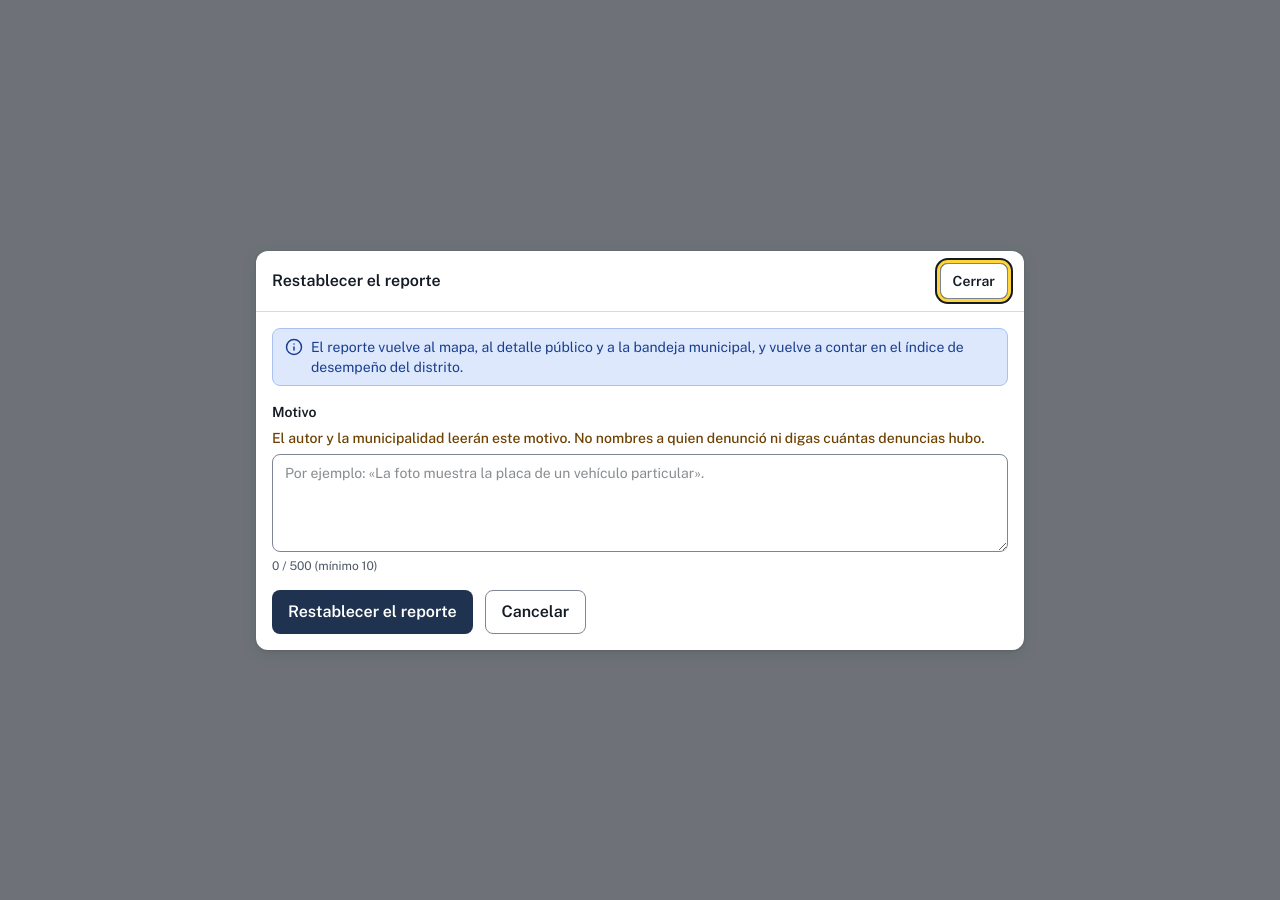
Test: DialogoModerar (NC-11b) › el 400 MOTIVO_IDENTIFICA_DENUNCIANTE va en el campo mientras el motivo no cambie
The width and height of the screenshot is (1280, 900).
Type "Denunciado por ana@ejemplo.pe sin razón" into the text box labelled "Motivo" at {"x": 640, "y": 502}, box [272,454,1008,552]
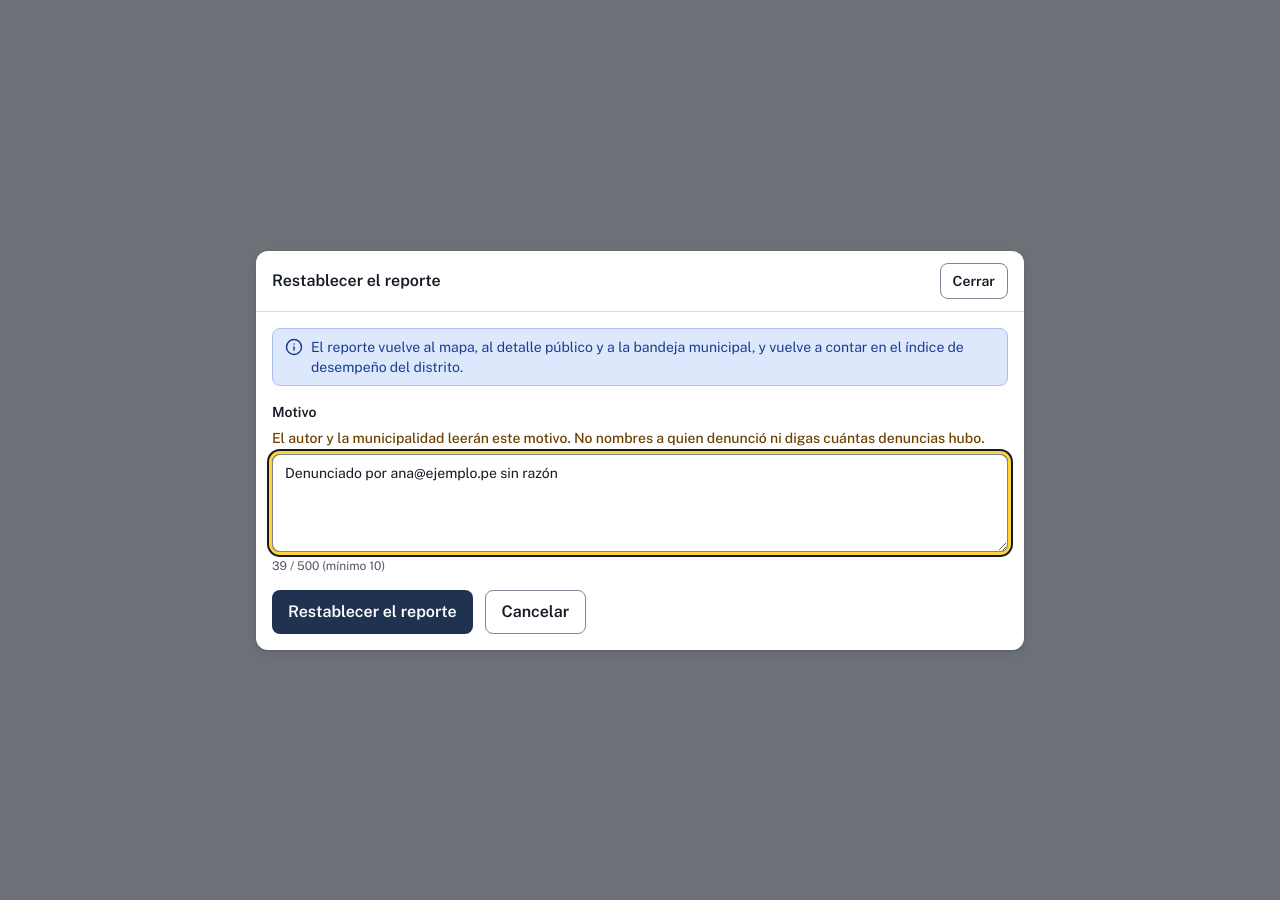
Click the button "Restablecer el reporte" at {"x": 372, "y": 612}, box [272,590,473,634]
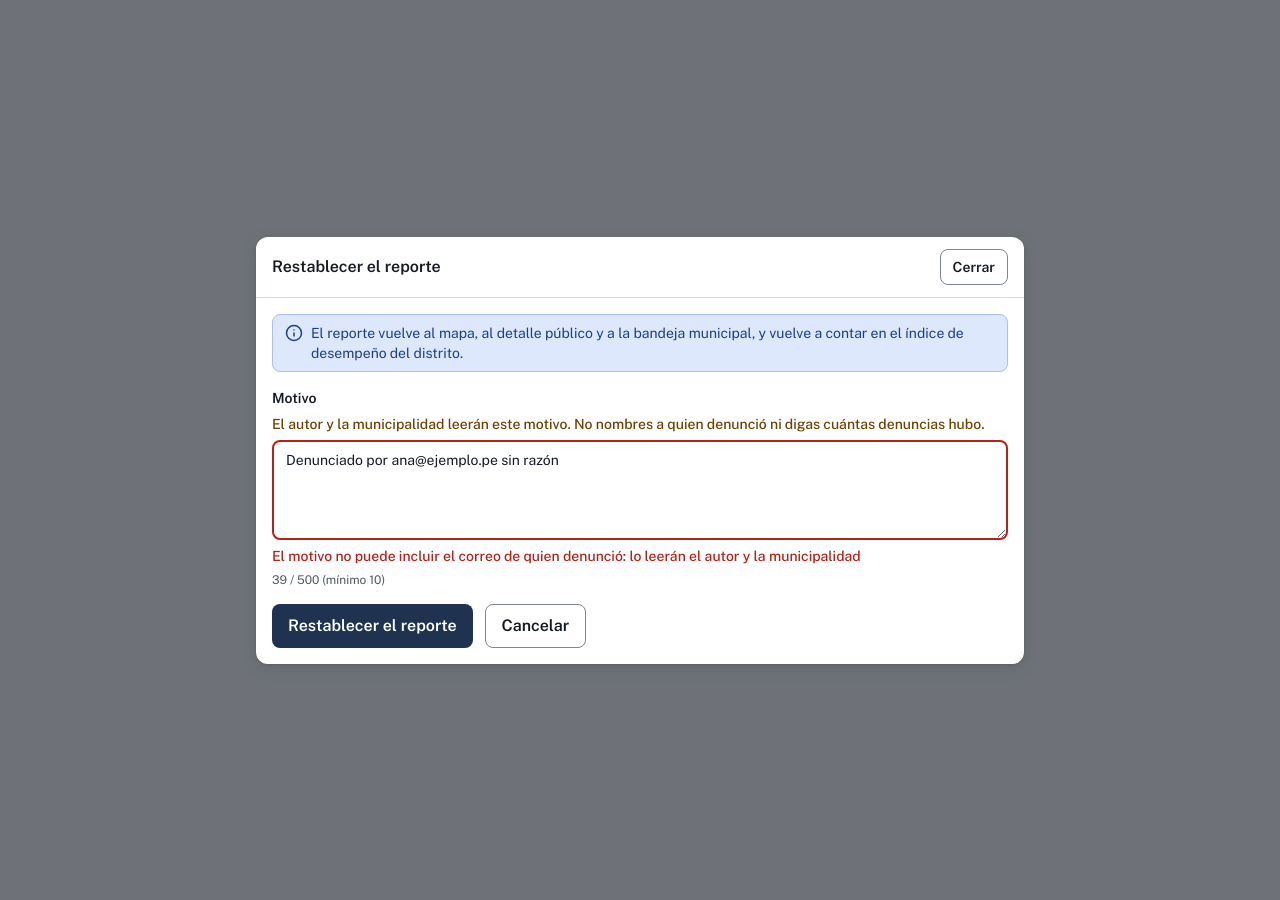
Expected: the message shows "El motivo no puede incluir el correo de quien denunció: lo leerán el autor y la municipalidad", [272,548,861,564]
Note: Al cambiar el motivo, el error del campo se va (lo dira el proximo envio).
Type " x" into the text box labelled "Motivo" at {"x": 640, "y": 490}, box [272,440,1008,540]
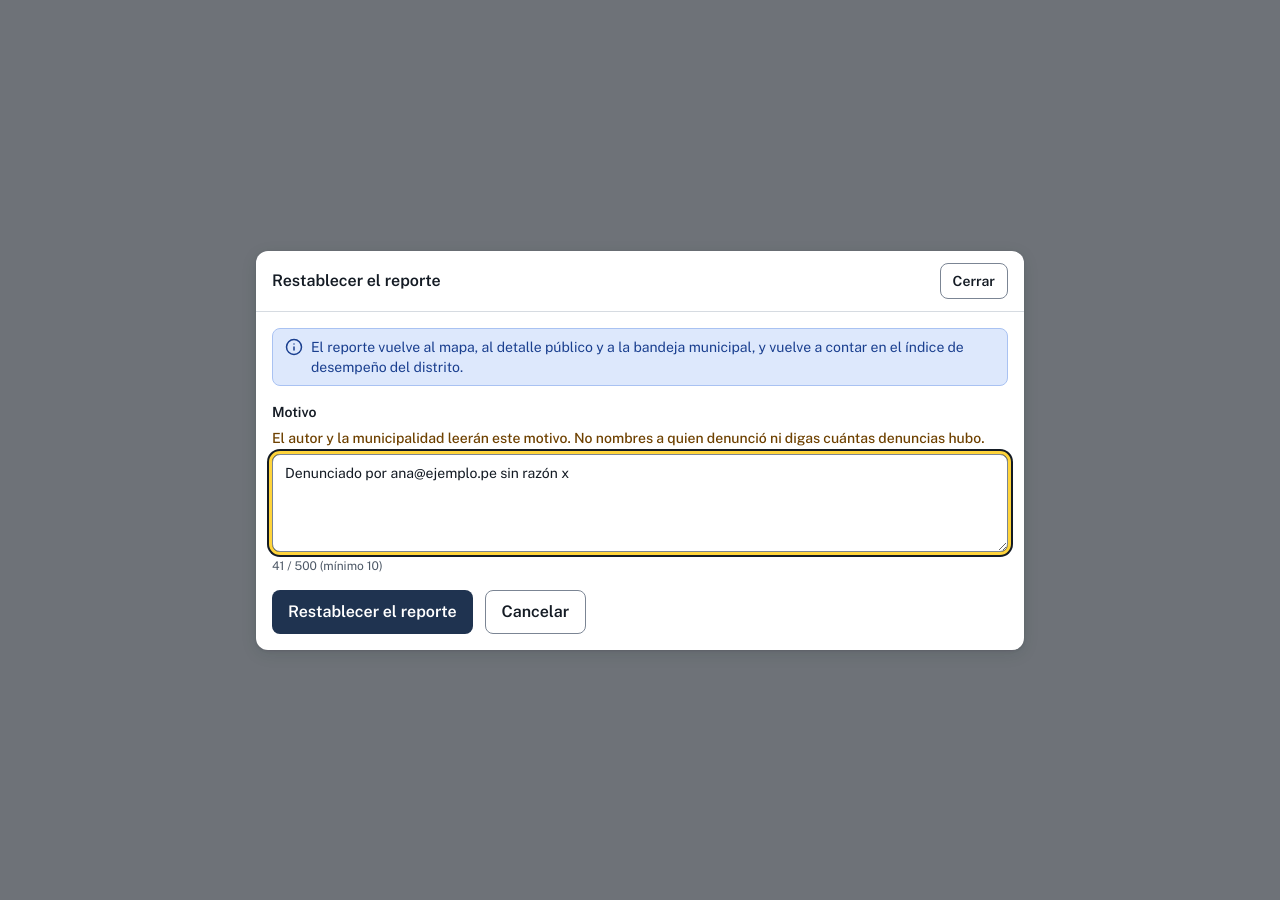
Expected: the message "El motivo no puede incluir el correo de quien denunció: lo leerán el autor y la" is gone
